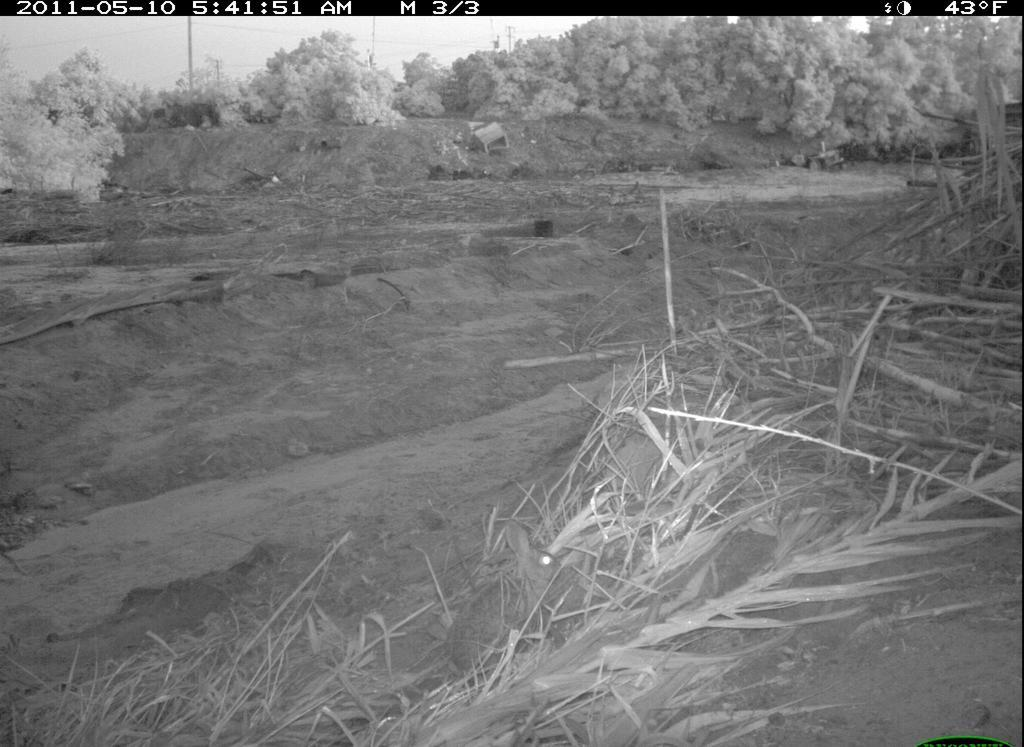rabbit: (437, 513, 571, 683)
